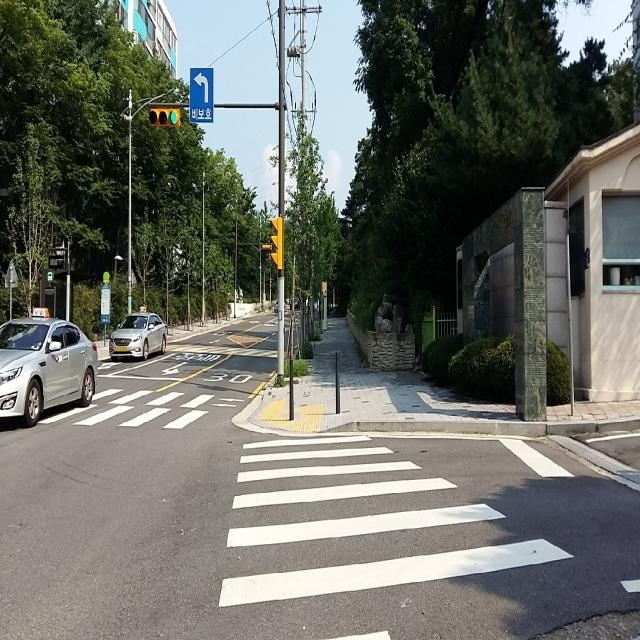횡단보도: (219, 435, 574, 639), (36, 374, 220, 433)
